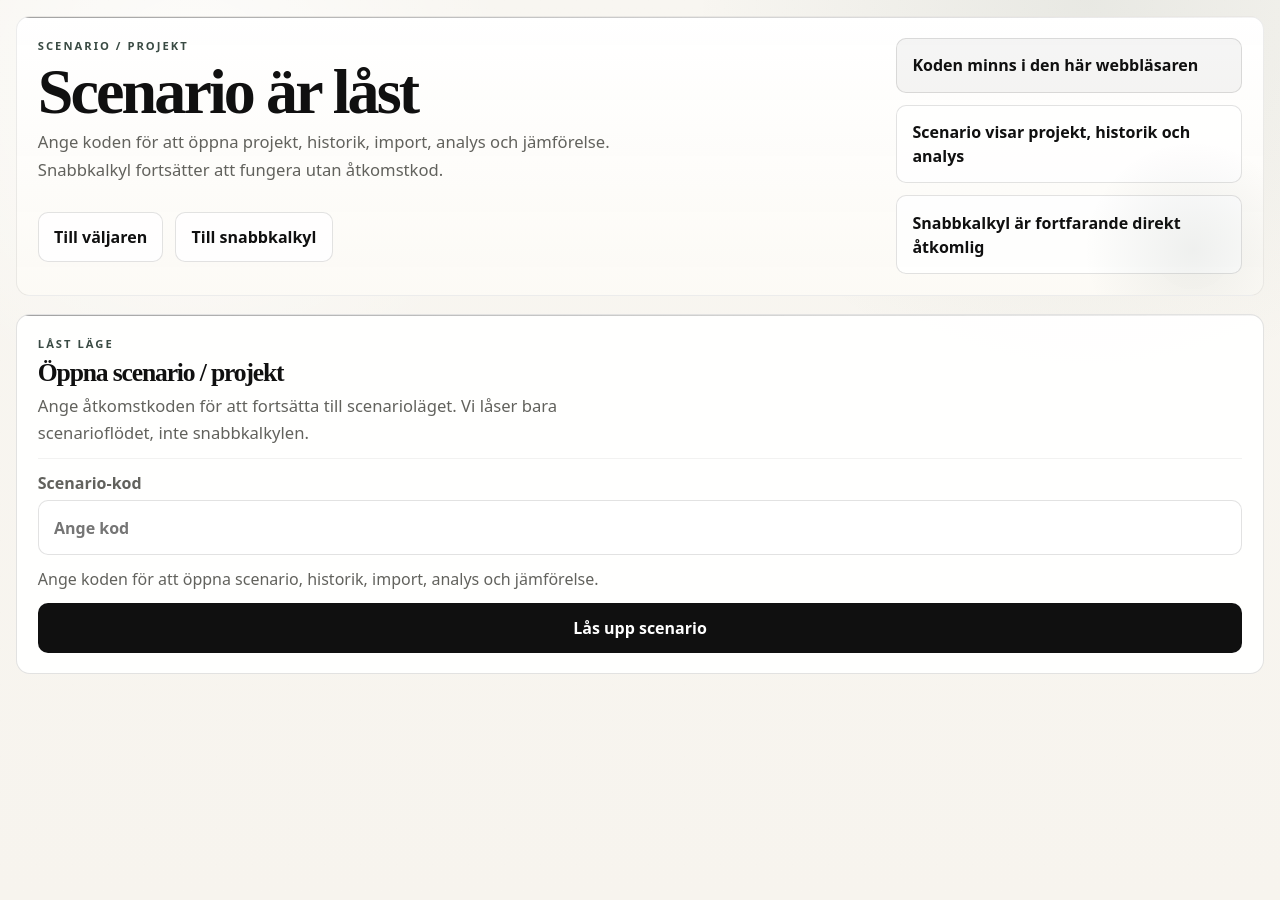
Scenario: App › shows locked scenario workbench states before a scenario exists
Expected: the heading "Scenario är låst" is shown, [38,63,422,120]
Expected: the text "Ange åtkomstkoden för att fortsätta till scenarioläget" is shown, [38,394,557,444]
Type "felkod" into the password field labelled "Scenario-kod". click: (640,528)
box: [38,500,1242,555]
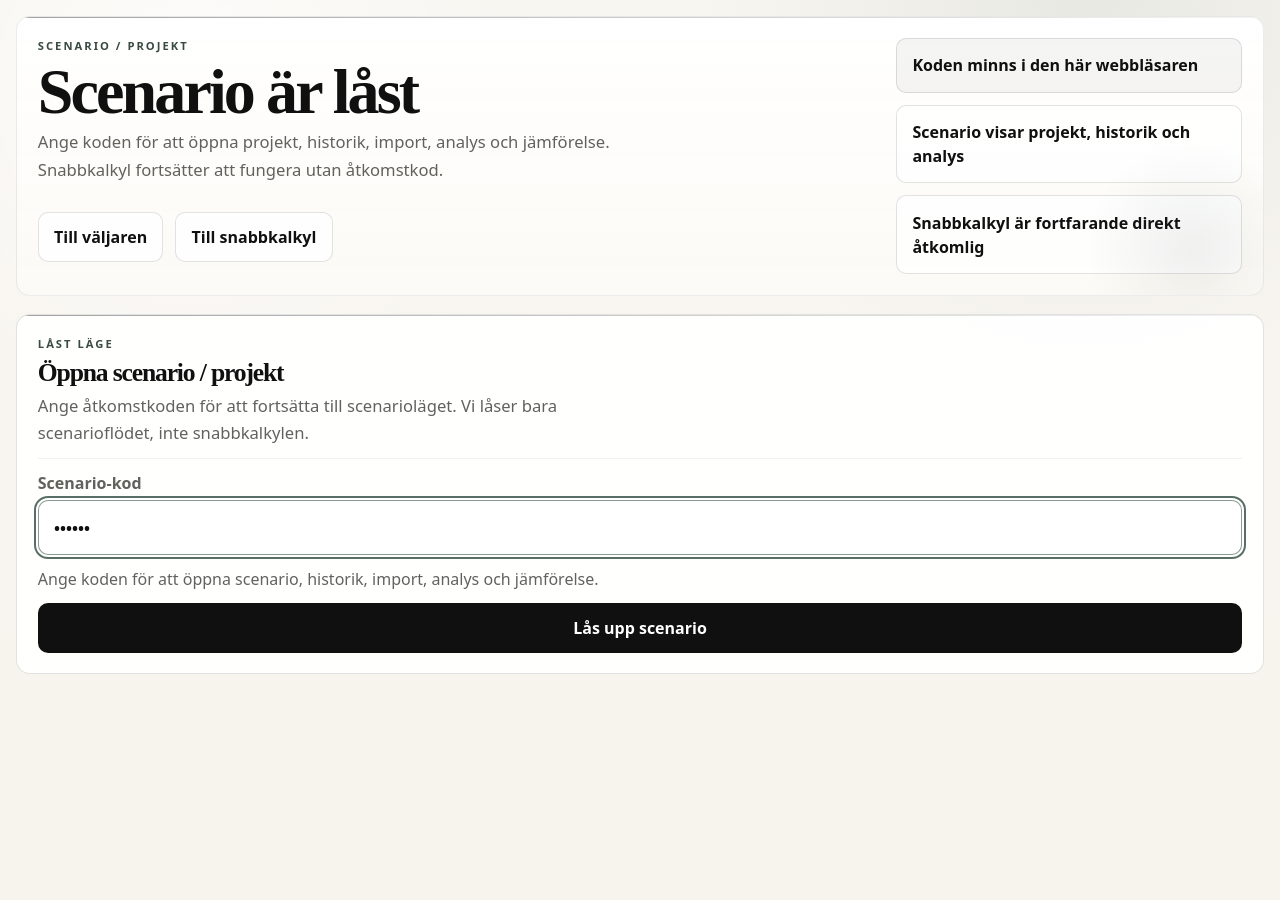
Click the button "Lås upp scenario". click: (640,628)
box: [38,603,1242,653]
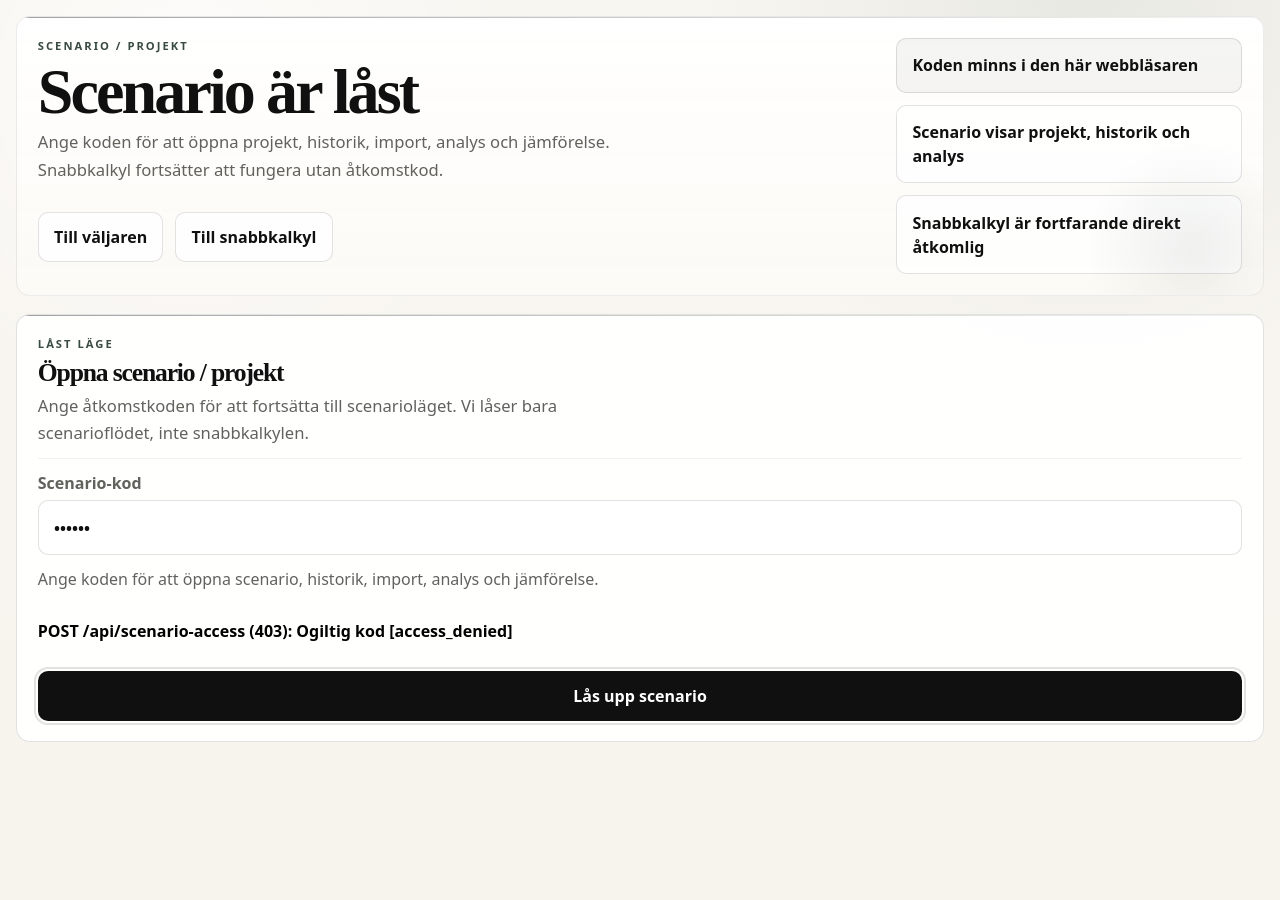
Expected: the text "POST /api/scenario-access (403): Ogiltig kod [access_denied]" is shown, [38,620,512,642]
